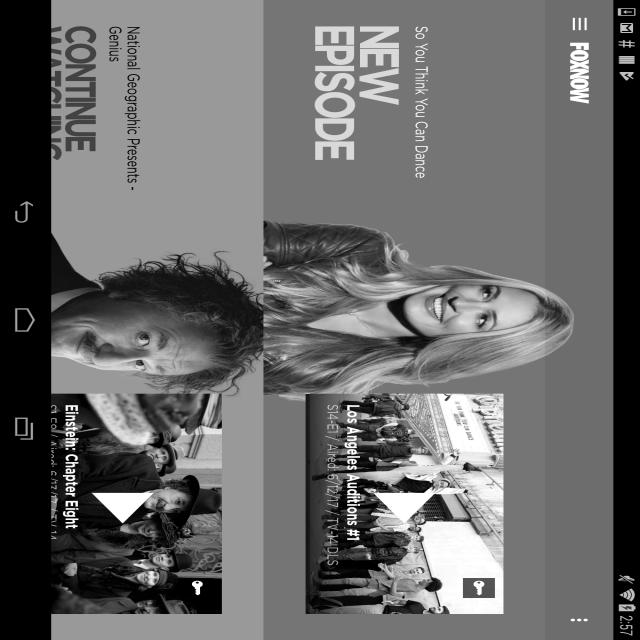ImageButton: (9, 19, 68, 57)
ImageView: (0, 38, 640, 258), (0, 214, 640, 434), (630, 85, 640, 209), (630, 261, 640, 385), (68, 32, 166, 44), (630, 109, 640, 186), (630, 285, 640, 362)
ProgressBar: (630, 206, 640, 209)
TextView: (41, 143, 348, 210), (41, 334, 348, 385), (41, 310, 348, 334), (41, 130, 348, 142)
